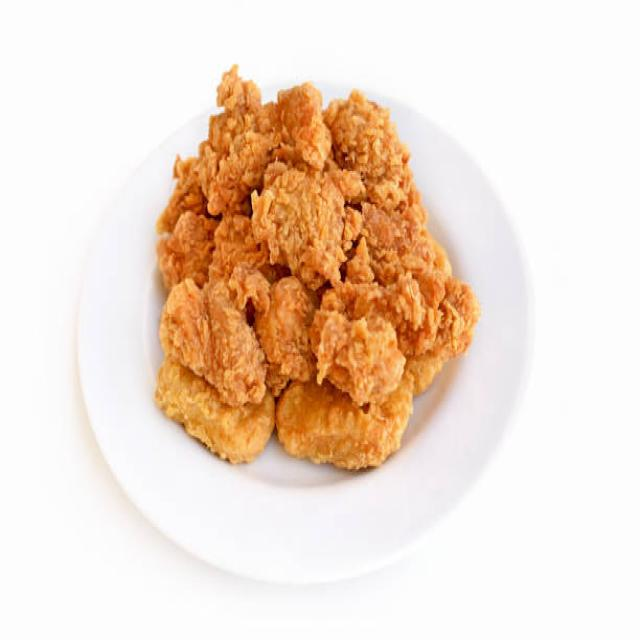Frango: (154, 57, 482, 476)
